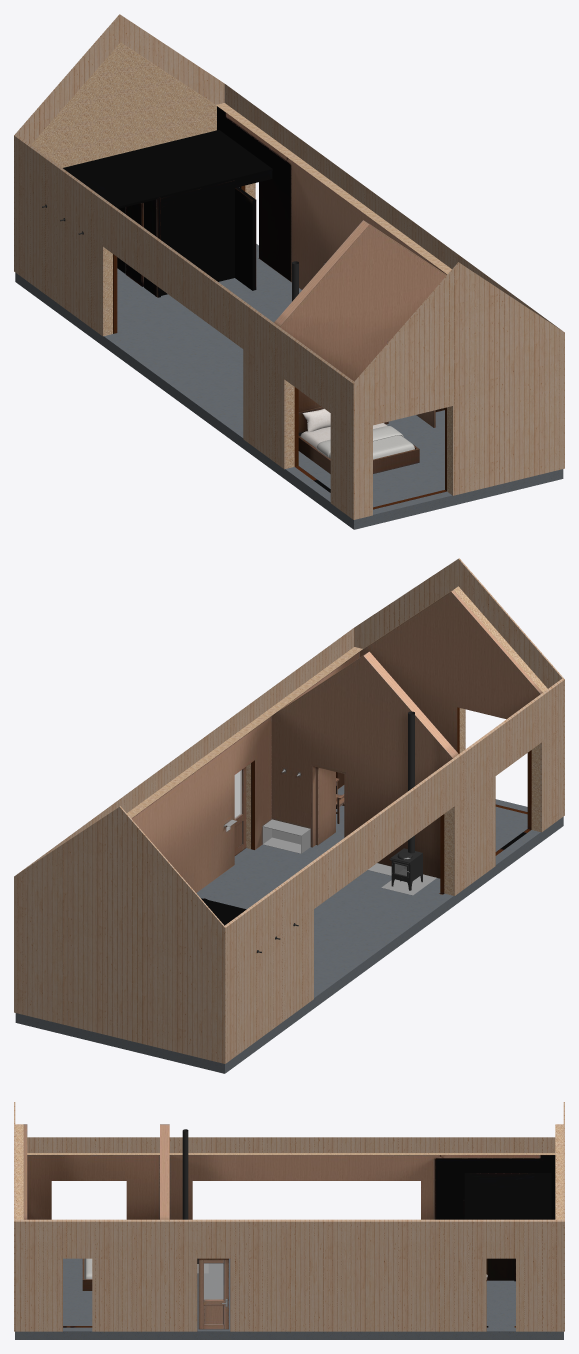
Rendered from Base_1_Plus_Light_no light.glb.
3 renders of one model, top to bottom at view 1: azimuth 30°, elevation 25°; view 2: azimuth 150°, elevation 25°; view 3: azimuth 270°, elevation 25°, orthographic. The views are drawn at different scales.
Visible parts, largest first — view 1: Black wood _Main_Base1plus.001, Interior_Main_Wood_Base1plus_no light, Concrete_Base1plus.001, Isolation_Base1plus, White Fabrics_Base1plus, White fabric_Base1plus; view 2: Black wood _Main_Base1plus.001, Interior_Main_Wood_Base1plus_no light, Concrete_Base1plus.001, Isolation_Base1plus, Alumininum_Base1plus, Fireplace_Base1plus; view 3: Black wood _Main_Base1plus.001, Interior_Main_Wood_Base1plus_no light, Concrete_Base1plus.001, Isolation_Base1plus, Glass_Base1plus, Fireplace_Base1plus.
Part boxes in pixels (bbox=[...]): Black wood _Main_Base1plus.001: bbox=[14, 14, 564, 519]; Interior_Main_Wood_Base1plus_no light: bbox=[63, 106, 447, 509]; Concrete_Base1plus.001: bbox=[15, 244, 563, 529]; Isolation_Base1plus: bbox=[31, 42, 452, 494]; White Fabrics_Base1plus: bbox=[316, 426, 414, 459]; White fabric_Base1plus: bbox=[300, 408, 387, 448]; Black wood _Main_Base1plus.001: bbox=[14, 558, 564, 1063]; Interior_Main_Wood_Base1plus_no light: bbox=[131, 590, 542, 925]; Concrete_Base1plus.001: bbox=[15, 785, 563, 1073]; Isolation_Base1plus: bbox=[127, 586, 547, 895]; Alumininum_Base1plus: bbox=[224, 769, 436, 895]; Fireplace_Base1plus: bbox=[389, 711, 422, 890]; Black wood _Main_Base1plus.001: bbox=[14, 1102, 564, 1331]; Interior_Main_Wood_Base1plus_no light: bbox=[23, 1124, 555, 1329]; Concrete_Base1plus.001: bbox=[15, 1258, 563, 1339]; Isolation_Base1plus: bbox=[15, 1124, 563, 1219]; Glass_Base1plus: bbox=[204, 1263, 223, 1299]; Fireplace_Base1plus: bbox=[182, 1129, 198, 1263].
Size of the model in its own units: 2.55 by 2.38 by 6.06.
12 materials, 7 textured.
